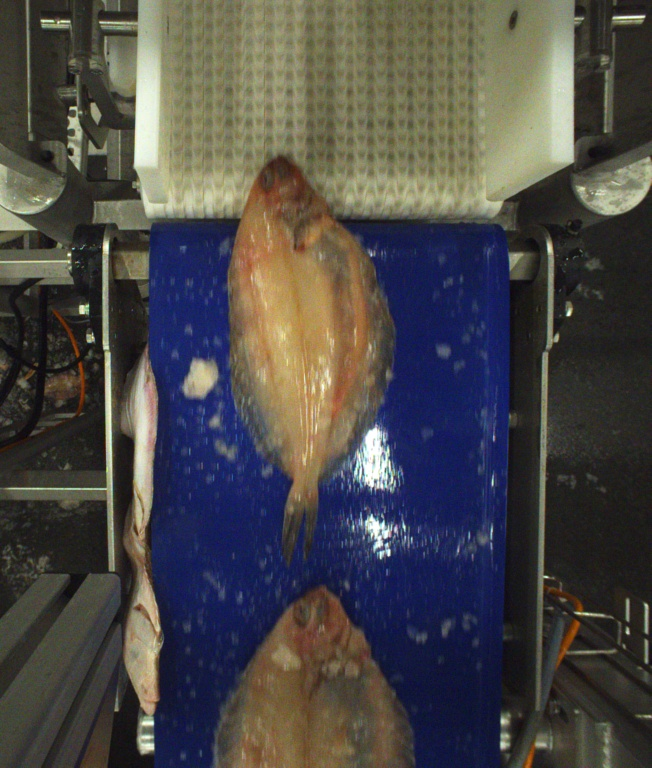WIT: (208, 584, 423, 768)
